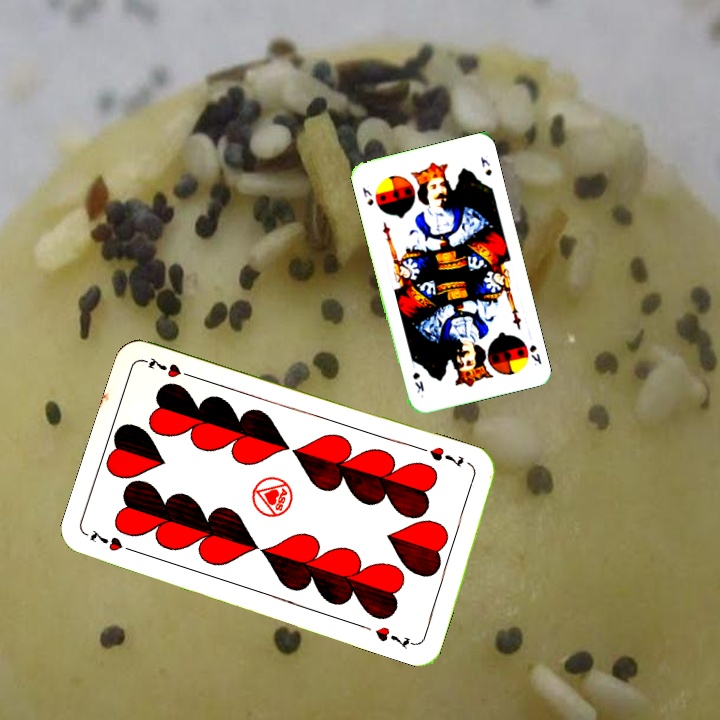H7: (86, 525, 141, 556), (425, 442, 467, 470)
SK: (525, 341, 544, 369), (358, 183, 376, 208)
